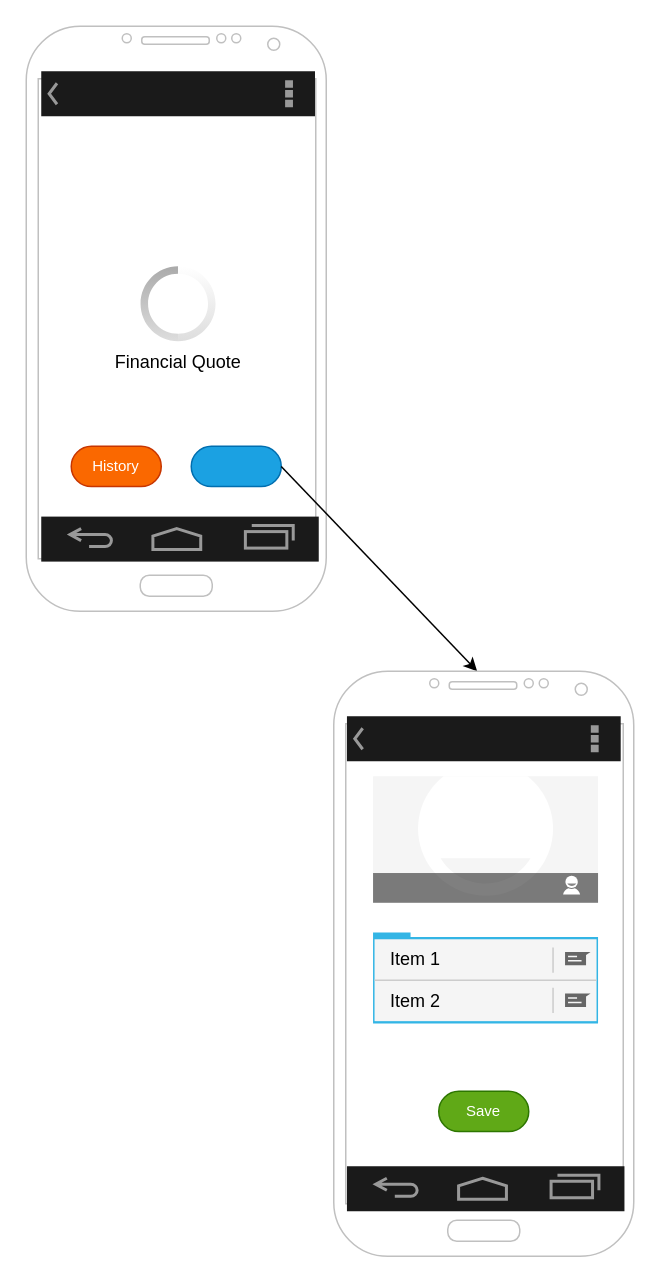
Image size: 660x1283. Some labels were removed from this diagram. Here are the shapes that lost their labels. From the top down, the box of each, then its label:
(190, 445, 281, 487): New Event
(372, 872, 598, 901): Event Name
